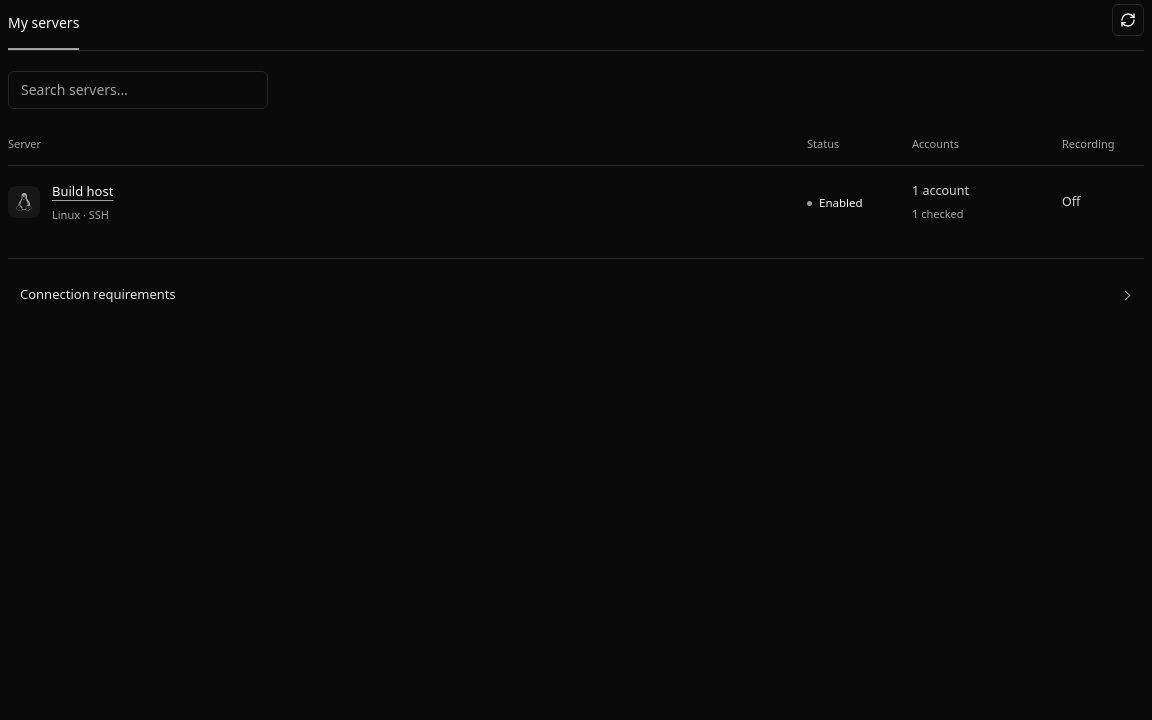
Strict Mode opens one websocket and does not revoke the initial single-use admission
Click the button "Build host". click: [83, 191]
box: [52,181,113,201]
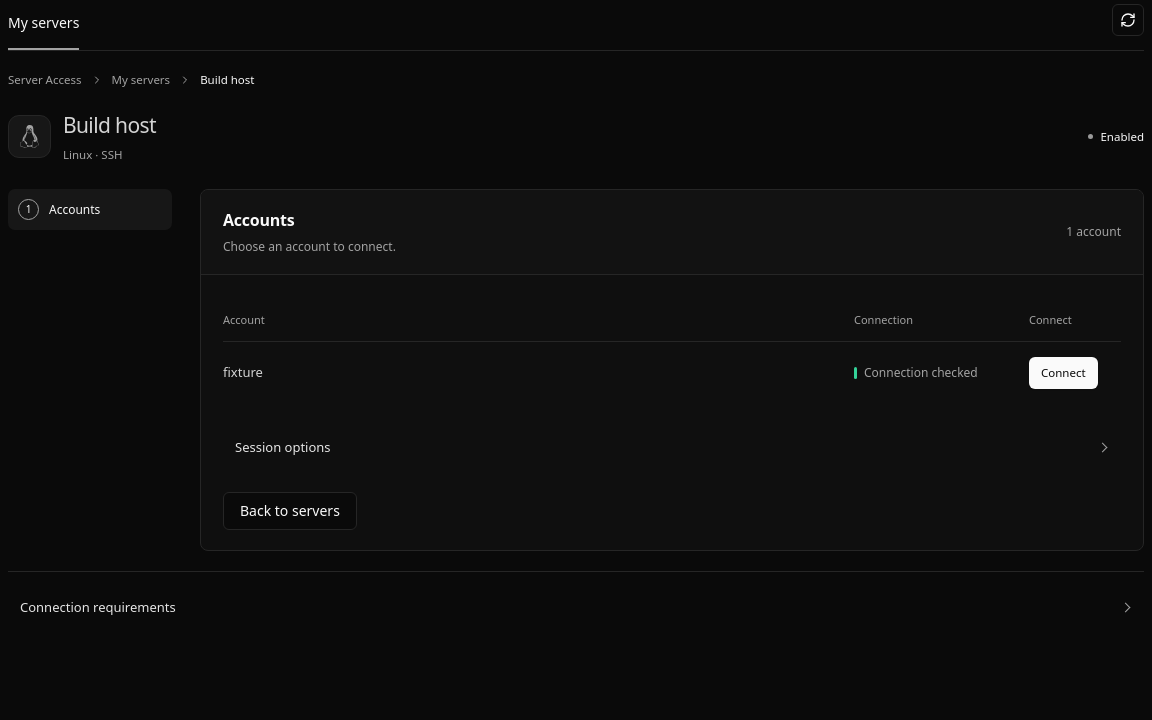
Click the button with aria-label "Connect as fixture". click: [1063, 373]
box: [1029,357,1098,389]
(page scrolled)
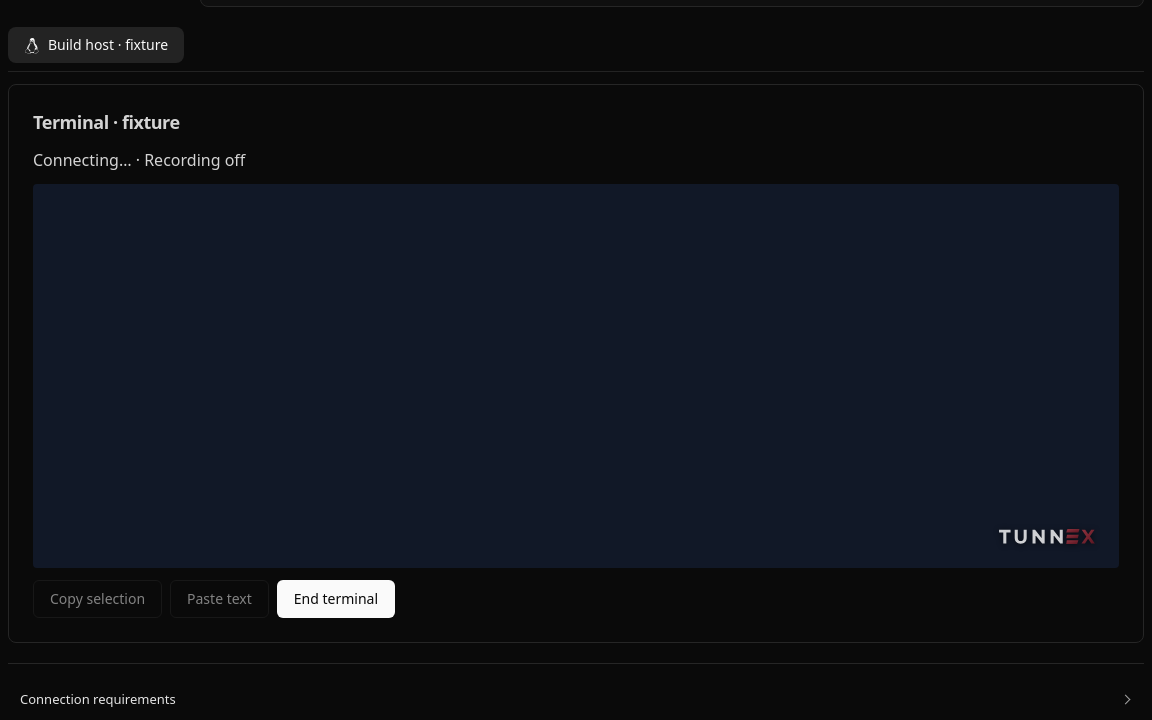
Expected: the element named "SSH terminal for fixture" is shown, [33,184,1119,568]
